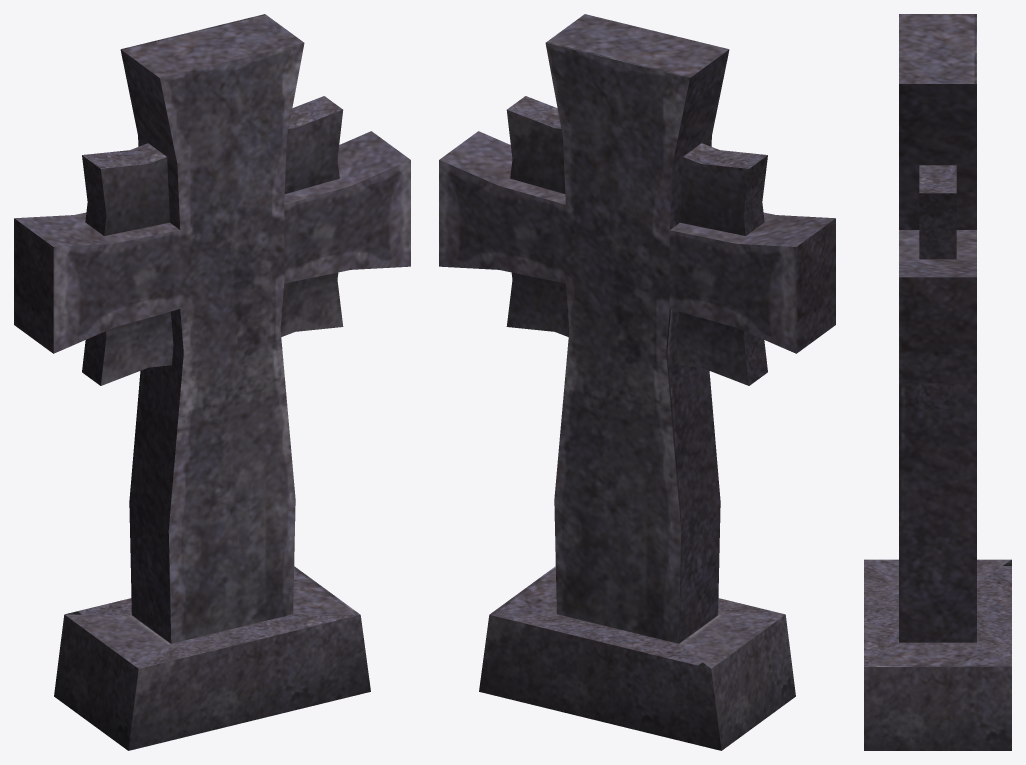
File: GravestoneRock1.fbx
The picture shows the model from 3 angles, left to right: view 1: azimuth 30°, elevation 25°; view 2: azimuth 150°, elevation 25°; view 3: azimuth 270°, elevation 25°; orthographic projection.
Visible parts, largest first — view 1: Tombstone_01; view 2: Tombstone_01; view 3: Tombstone_01.
Boxes of the visible parts, x1,y1,x2,y2 form: Tombstone_01: (14,14,410,750); Tombstone_01: (439,14,835,750); Tombstone_01: (864,14,1011,750).
Size of the model in its own units: 136 by 235 by 48.92.
